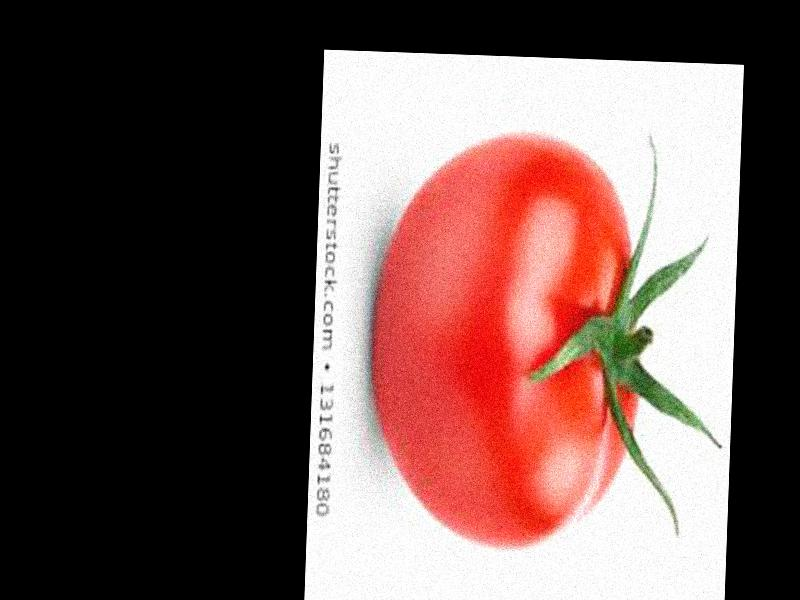Tomato: (369, 129, 645, 553)
